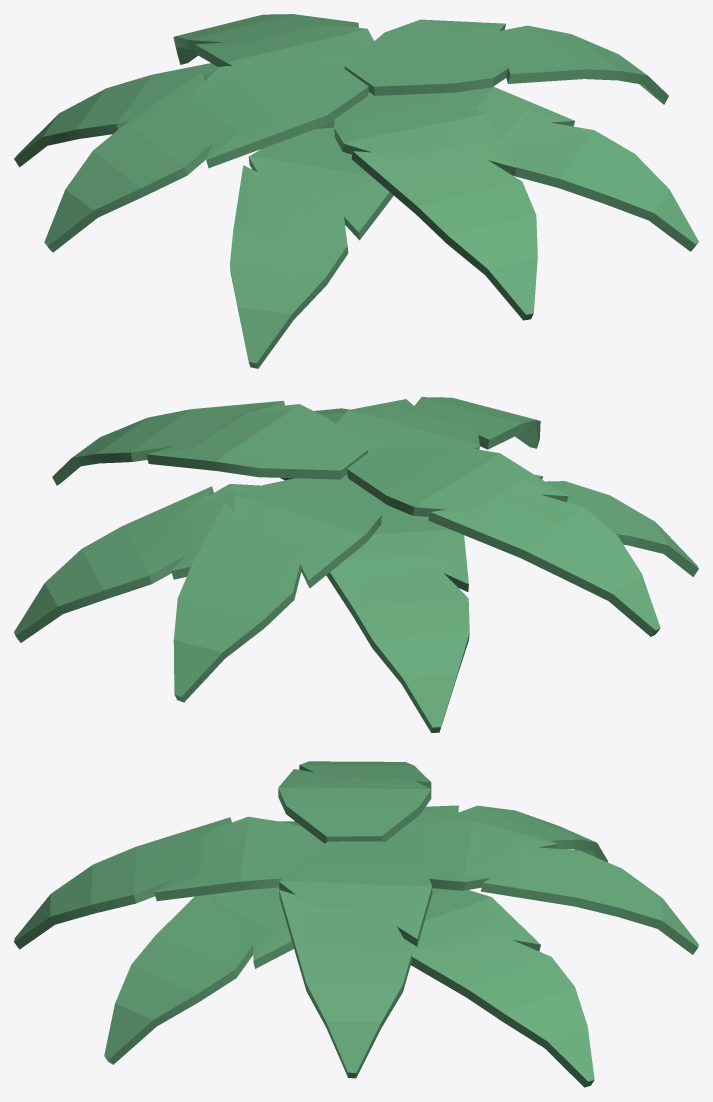
Rendered from Feuilles.fbx.
3 views of the same model, one above another, from view 1: azimuth 30°, elevation 25°; view 2: azimuth 150°, elevation 25°; view 3: azimuth 270°, elevation 25° (orthographic). The views are drawn at different scales.
Parts seen in each view (by area): view 1: Feuilles; view 2: Feuilles; view 3: Feuilles.
Part boxes in pixels (box(x1,y1,x2,y2)): Feuilles: box(14, 14, 698, 368); Feuilles: box(14, 397, 698, 732); Feuilles: box(14, 761, 698, 1087).
Bounding box in the file's own units: 900 × 217 × 900.
